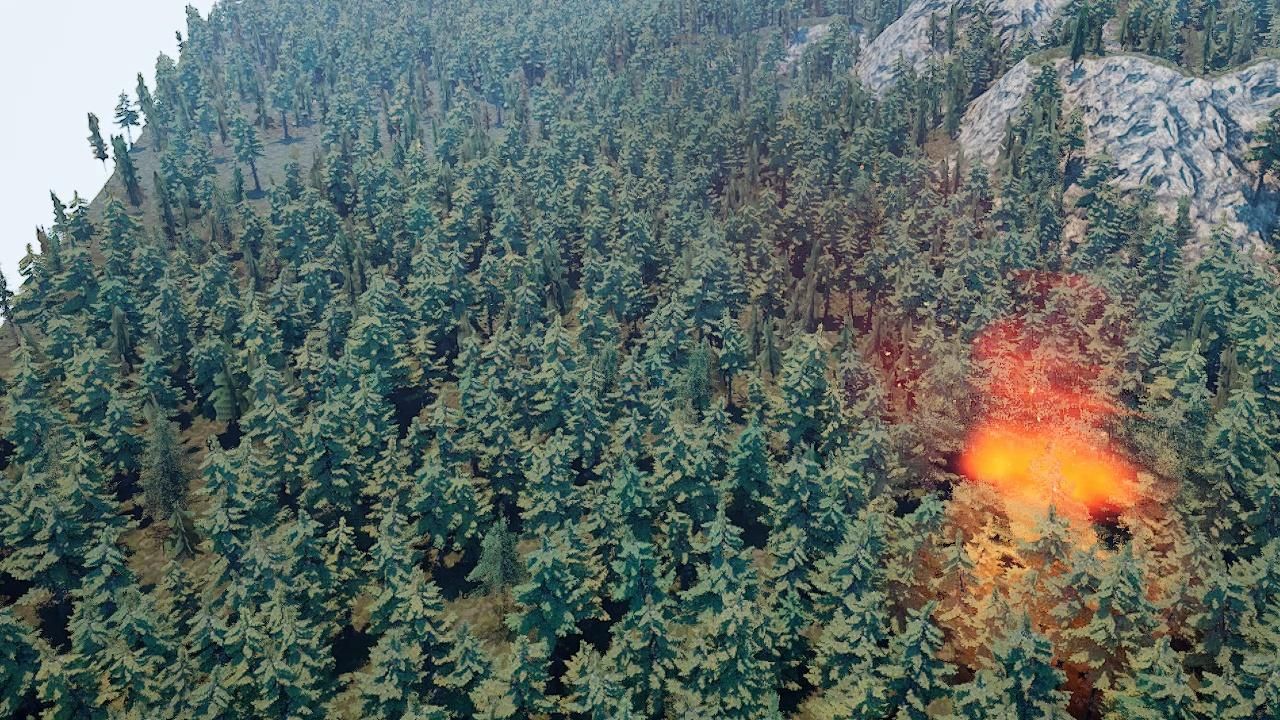fire: (970, 429, 1140, 517)
smoke: (736, 150, 1194, 715)
